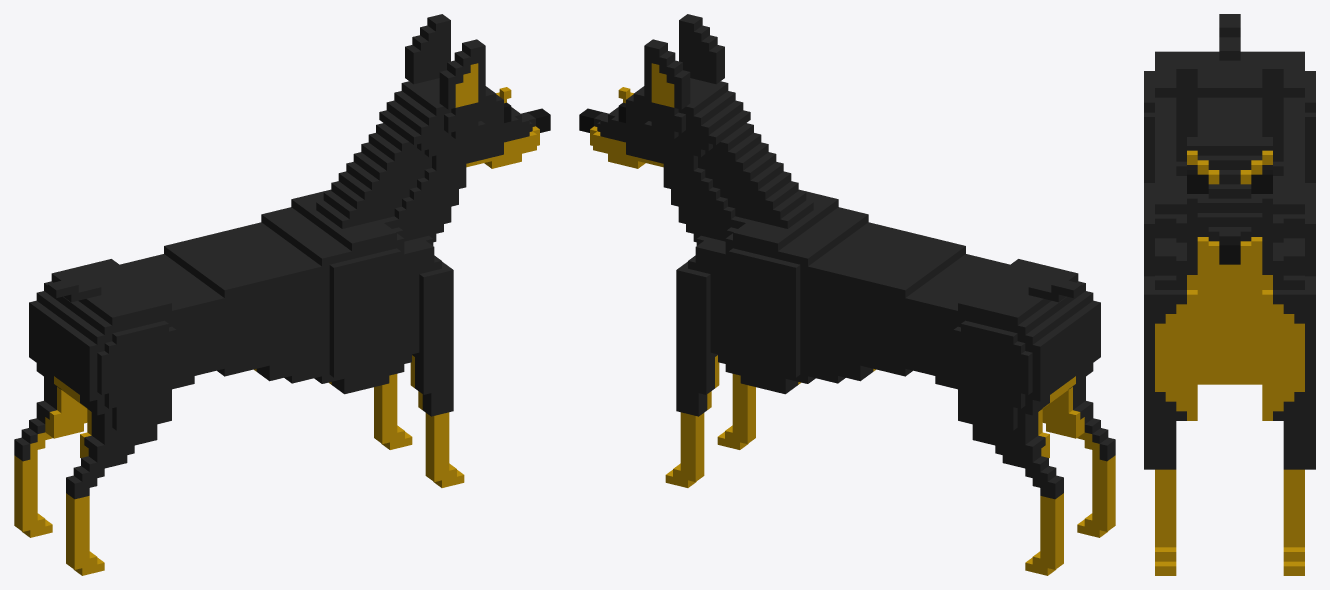
File: Rex.obj
3 views of the same model, side by side, from view 1: azimuth 30°, elevation 25°; view 2: azimuth 150°, elevation 25°; view 3: azimuth 270°, elevation 25° (orthographic). The views are drawn at different scales.
Size of the model in its own units: 6.7 by 5.4 by 1.6.
Materials: 1 (1 with a texture image).
